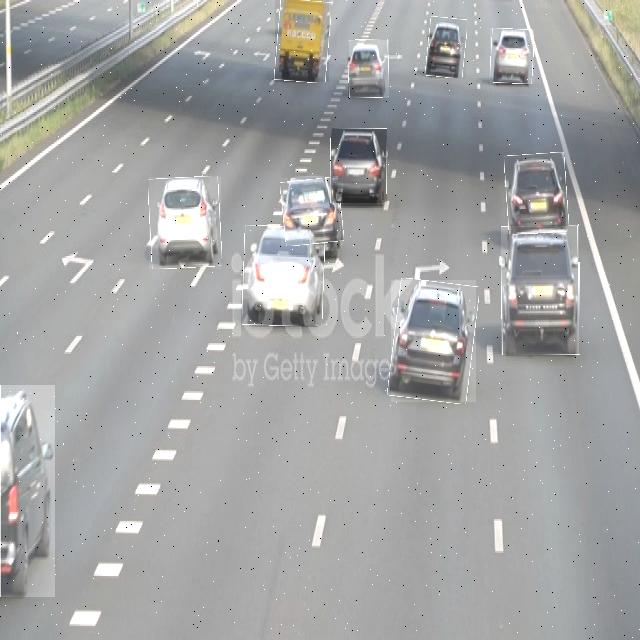Car: (0, 385, 55, 597), (391, 280, 476, 402), (502, 226, 580, 355), (243, 226, 325, 325), (149, 177, 221, 269), (506, 153, 568, 234), (281, 178, 343, 246), (331, 128, 387, 203), (490, 28, 534, 84), (427, 17, 466, 78), (349, 40, 389, 98)
Truck: (275, 0, 329, 82)
